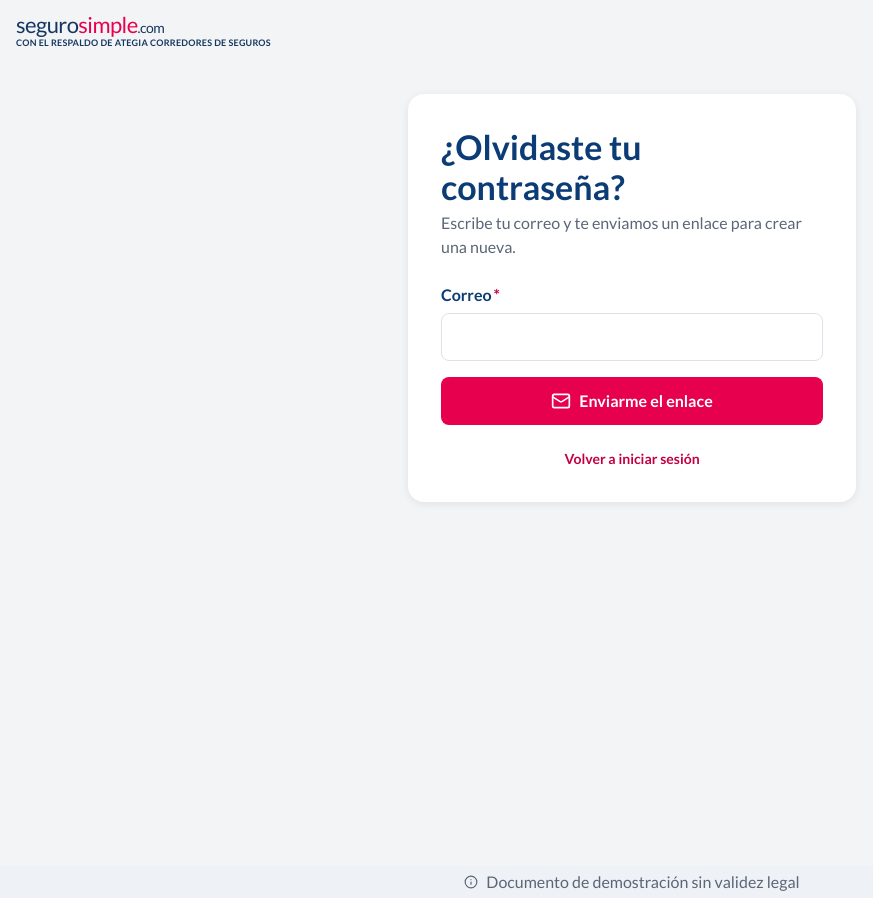
RecuperarPasswordPage › si el envío falla muestra el mensaje y deja reintentar
The width and height of the screenshot is (873, 898).
Type "ana@correo.com" into the field labelled "Correo*" at (632,337), box [441,313,823,361]
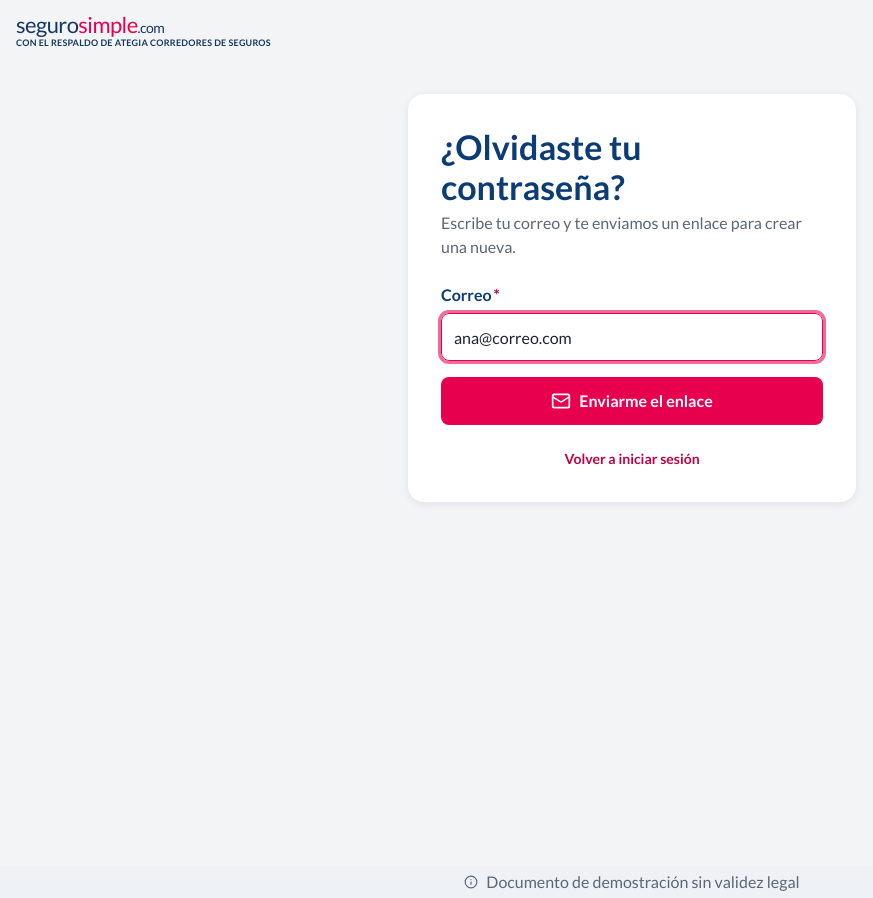
Click the button "Enviarme el enlace" at (632,401), box [441,377,823,425]
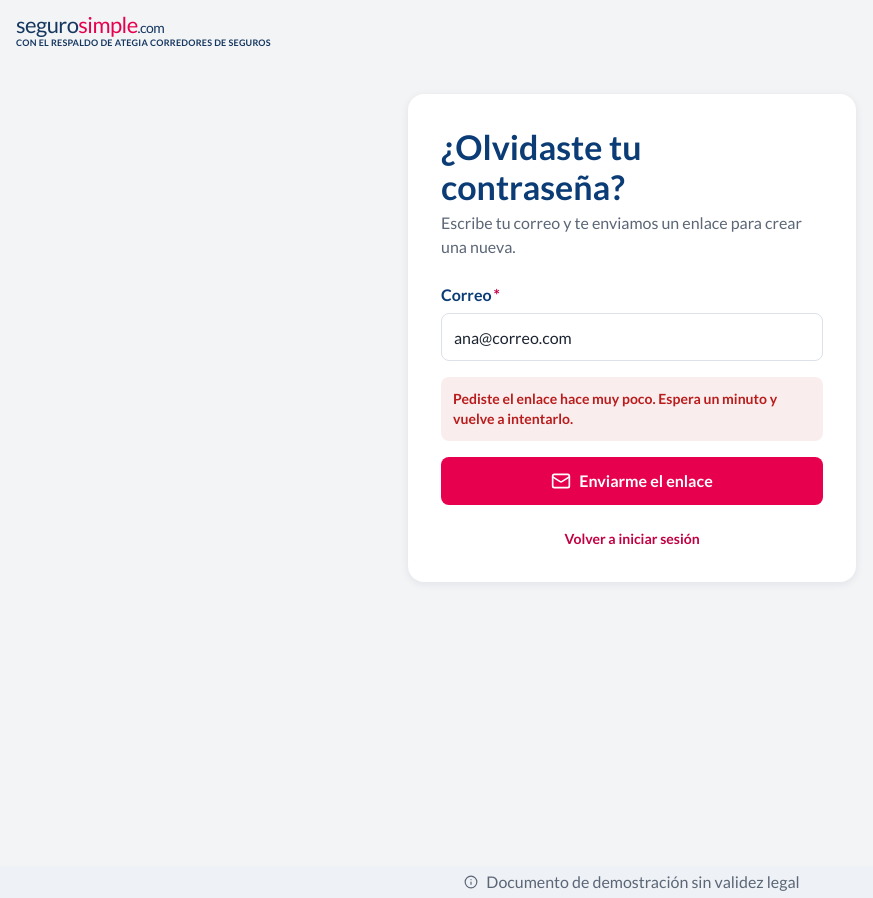
Expected: the button "Enviarme el enlace" is enabled, [441,457,823,505]
Expected: the message shows "Pediste el enlace hace muy poco", [453,390,777,427]
